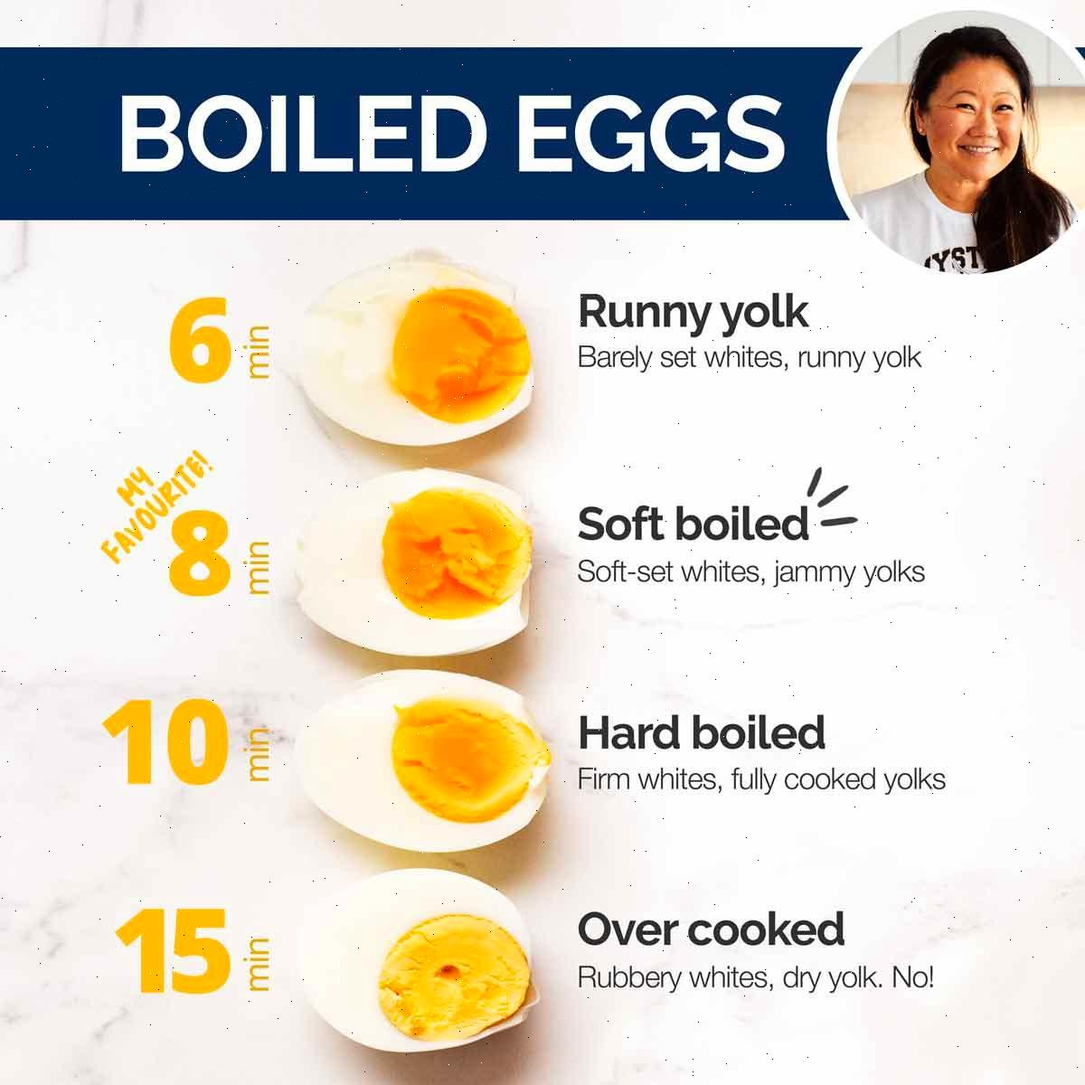eggs: (293, 260, 567, 1085)
